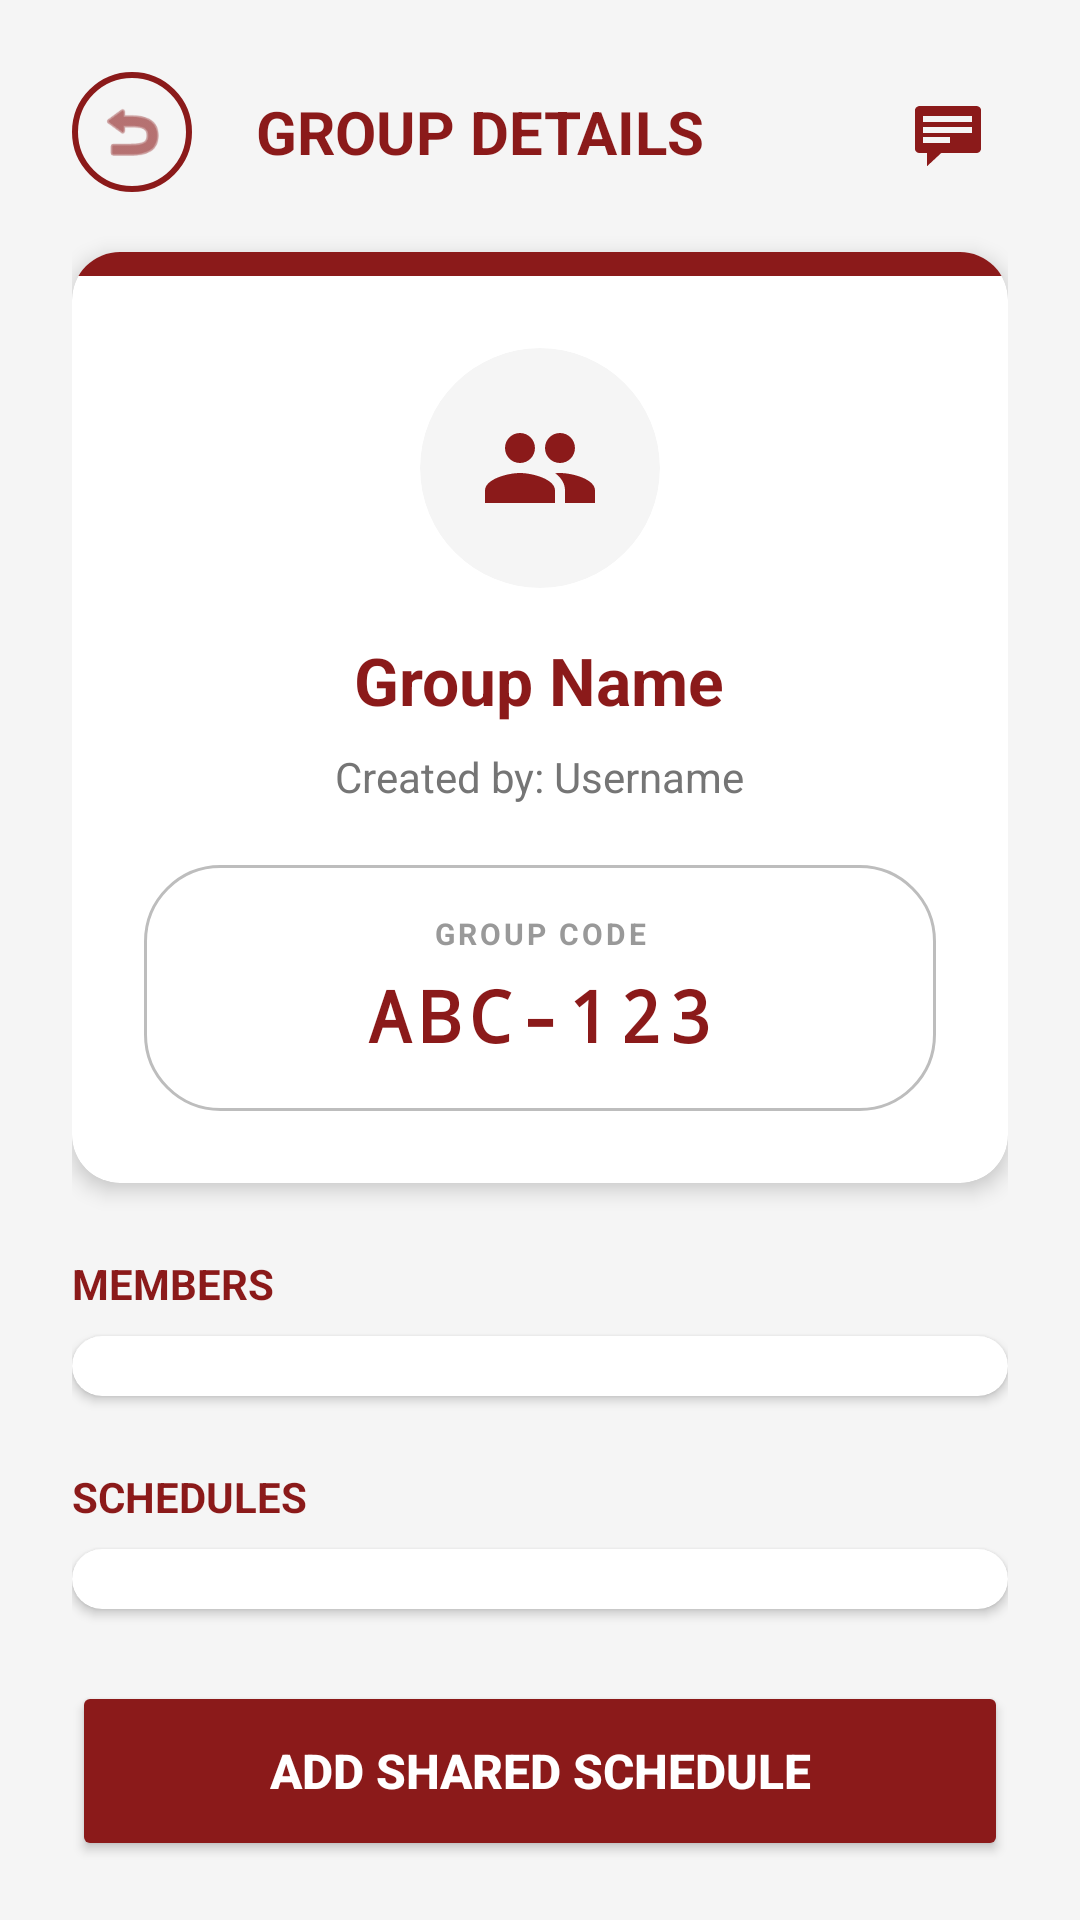

Where to tap for icons on this 1080px x 1920px app screen, as [x,y]:
Chat: [948,136]
revert: [132,132]
